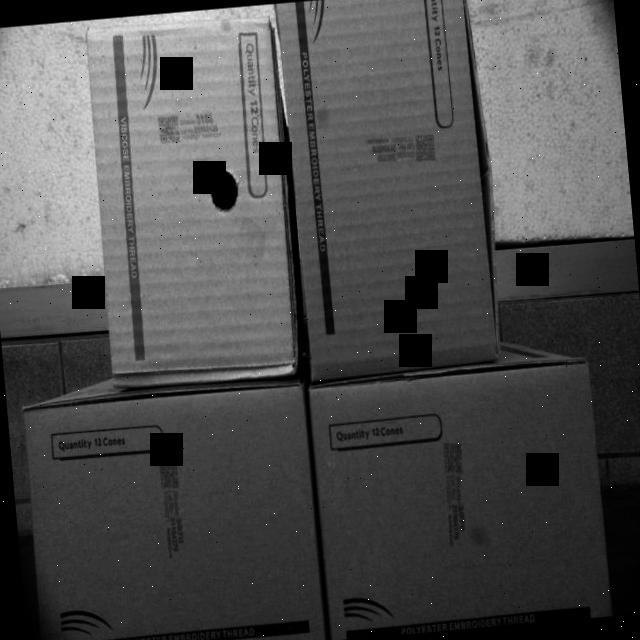box: (270, 0, 502, 376), (308, 360, 610, 640), (85, 11, 298, 385), (21, 382, 328, 640)
